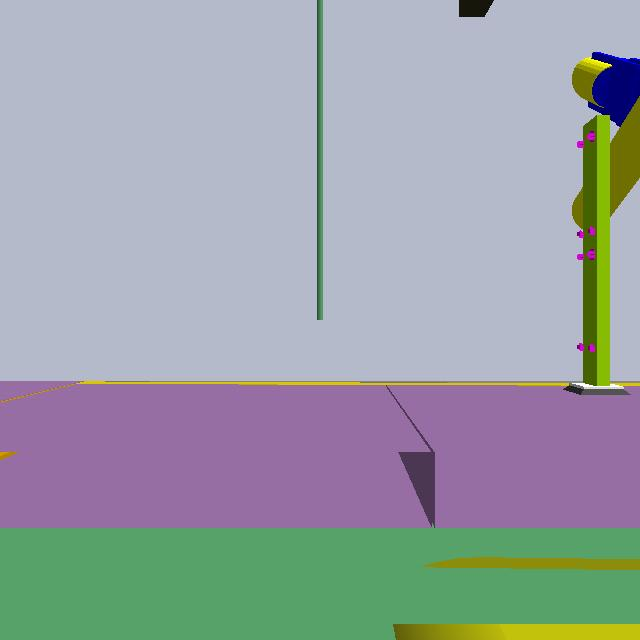Poste: (308, 1, 331, 331)
Soporte: (574, 108, 623, 399)
